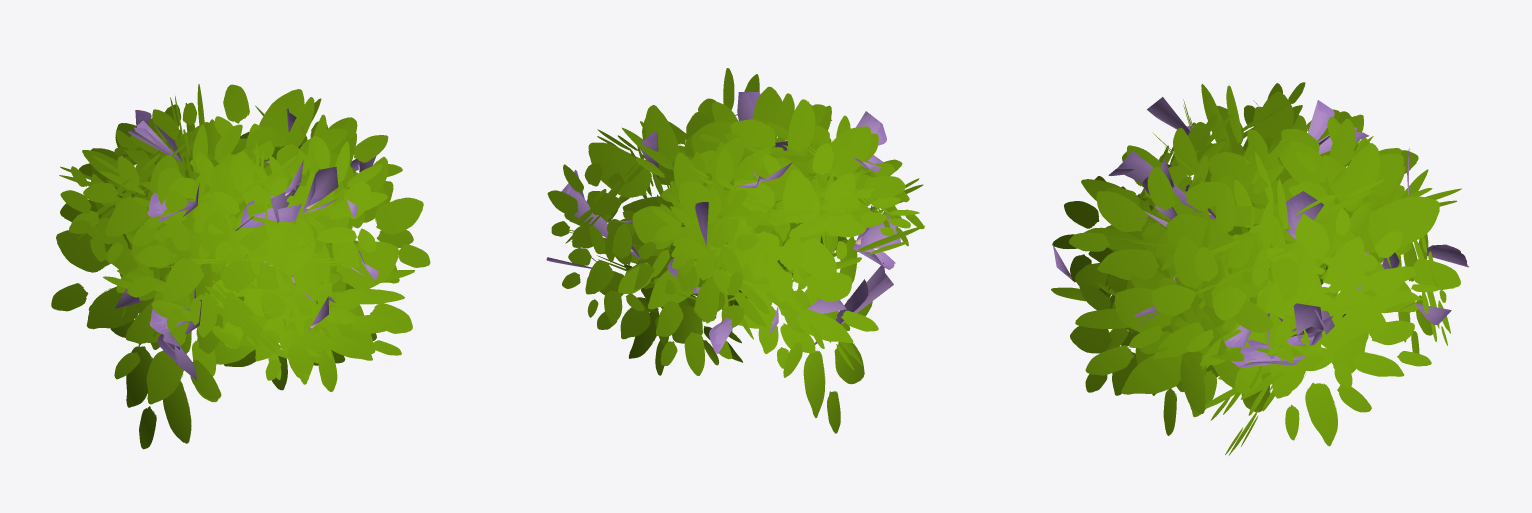
The model's file is bush_common_flowers_far.gltf.
3 views of the same model, side by side, from view 1: azimuth 30°, elevation 25°; view 2: azimuth 150°, elevation 25°; view 3: azimuth 270°, elevation 25° (orthographic). The views are drawn at different scales.
Parts seen in each view (by area): view 1: bush_common_flowers_far; view 2: bush_common_flowers_far; view 3: bush_common_flowers_far.
Boxes of the visible parts, <box> form: bush_common_flowers_far: <box>51,84,430,449</box>; bush_common_flowers_far: <box>546,68,924,433</box>; bush_common_flowers_far: <box>1051,82,1468,455</box>.
Bounding box in the file's own units: 1.03 × 1.06 × 1.07.
Materials: 2 (2 with a texture image).
